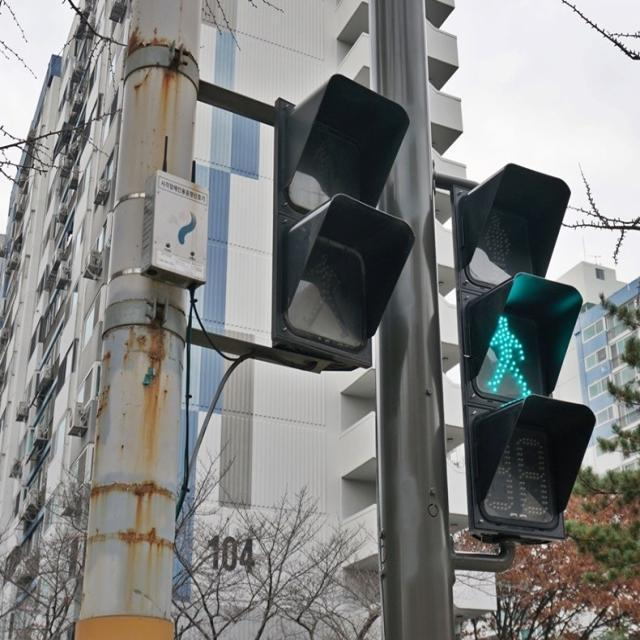green_light: (480, 308, 544, 398)
